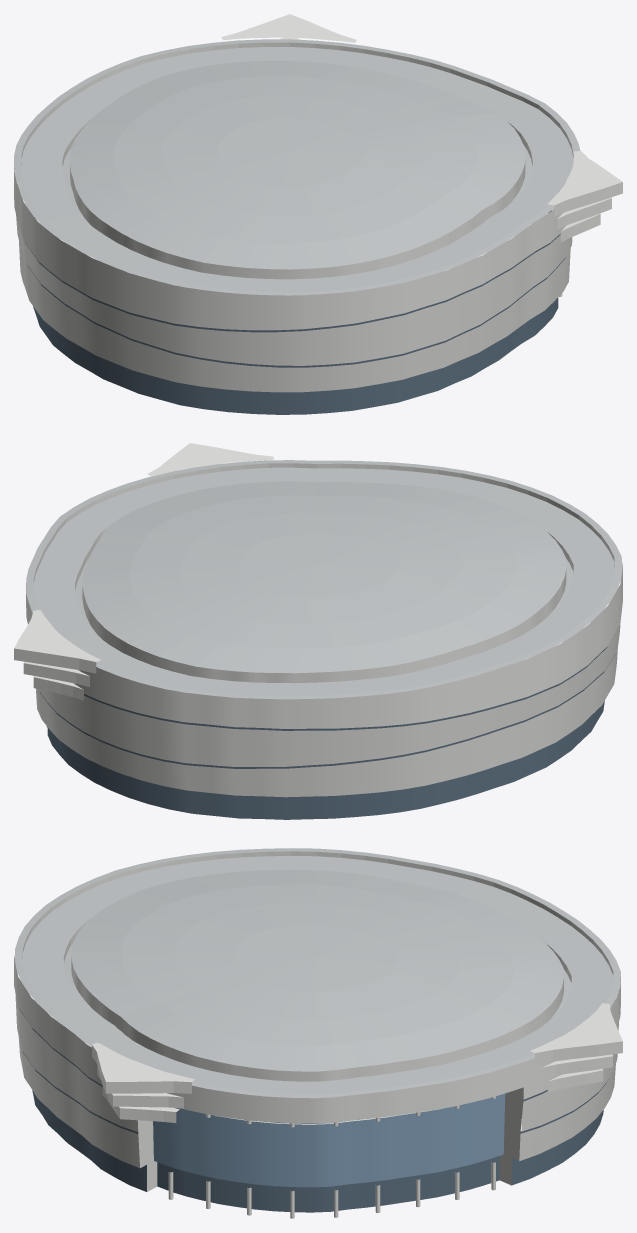
3 renders of one model, top to bottom at view 1: azimuth 30°, elevation 25°; view 2: azimuth 150°, elevation 25°; view 3: azimuth 270°, elevation 25°, orthographic.
Parts seen in each view (by area): view 1: chase-center; view 2: chase-center; view 3: chase-center.
Part boxes in pixels (bbox=[...]): chase-center: bbox=[14, 14, 622, 414]; chase-center: bbox=[14, 443, 622, 819]; chase-center: bbox=[14, 848, 622, 1218].
Bounding box in the file's own units: 156 × 41.6 × 160.
